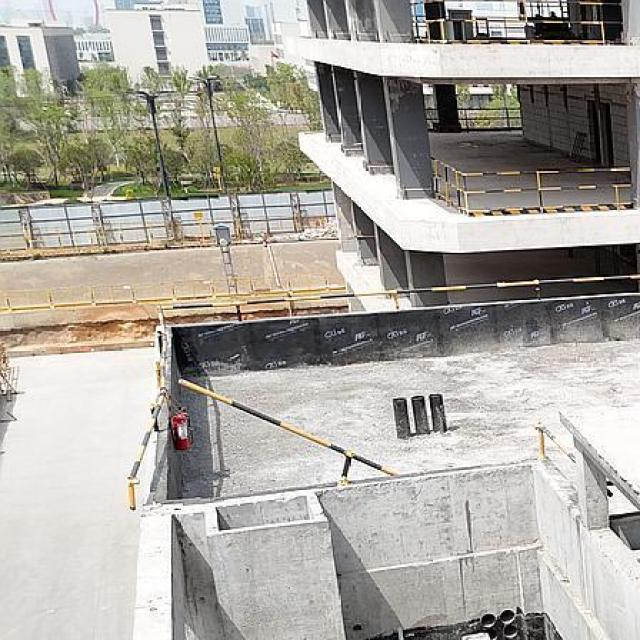edge_guardrail: (125, 273, 640, 513), (175, 376, 398, 484), (428, 156, 633, 217), (407, 0, 623, 44), (457, 107, 522, 129), (423, 107, 438, 120)
